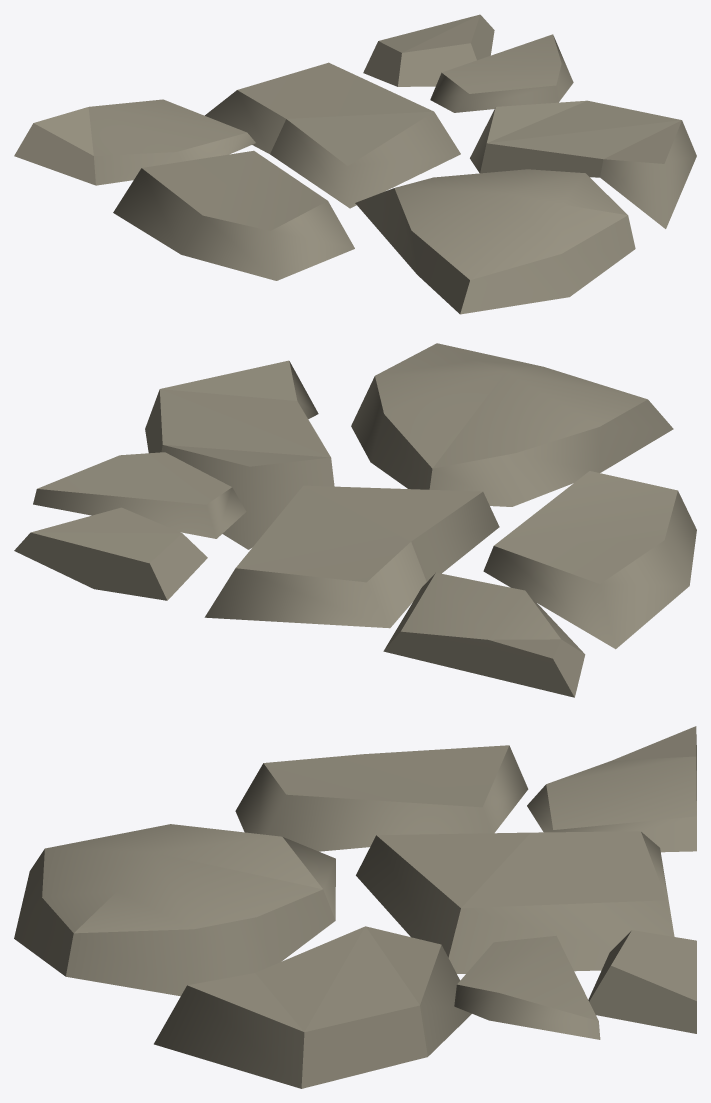
Rendered from Stone_Path_Ending_B.glb.
3 views of the same model, one above another, from view 1: azimuth 30°, elevation 25°; view 2: azimuth 150°, elevation 25°; view 3: azimuth 270°, elevation 25° (orthographic). The views are drawn at different scales.
Visible parts, largest first — view 1: Stone_Path_Ending_B; view 2: Stone_Path_Ending_B; view 3: Stone_Path_Ending_B.
Boxes of the visible parts, <box> form: Stone_Path_Ending_B: <box>14,14,696,314</box>; Stone_Path_Ending_B: <box>14,343,696,697</box>; Stone_Path_Ending_B: <box>14,726,696,1088</box>.
Bounding box in the file's own units: 0.9457 × 0.1391 × 0.8467.
